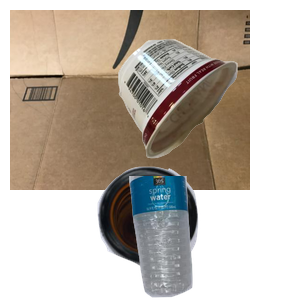cardboard: (10, 10, 250, 190)
glass: (95, 164, 286, 300)
plastic: (127, 176, 300, 300)
trash: (116, 36, 300, 187)
